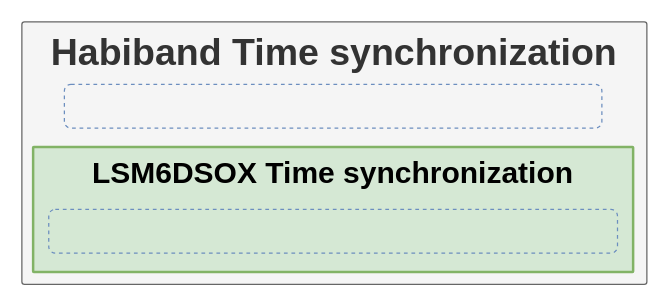
The diagram is 669 pixels wide and 306 high, and some of its shapes have lost their labels. The shapes that lost their labels are listed below. From the top down, each one's centre as x and y in pixels, then its label:
At point (332, 105): "void HabibandTimeSynchronization(HabibandT* device)".
At point (333, 230): "void LSM6DSOX_ControlHandler(LSM6DSOX_ControlT* device)".
